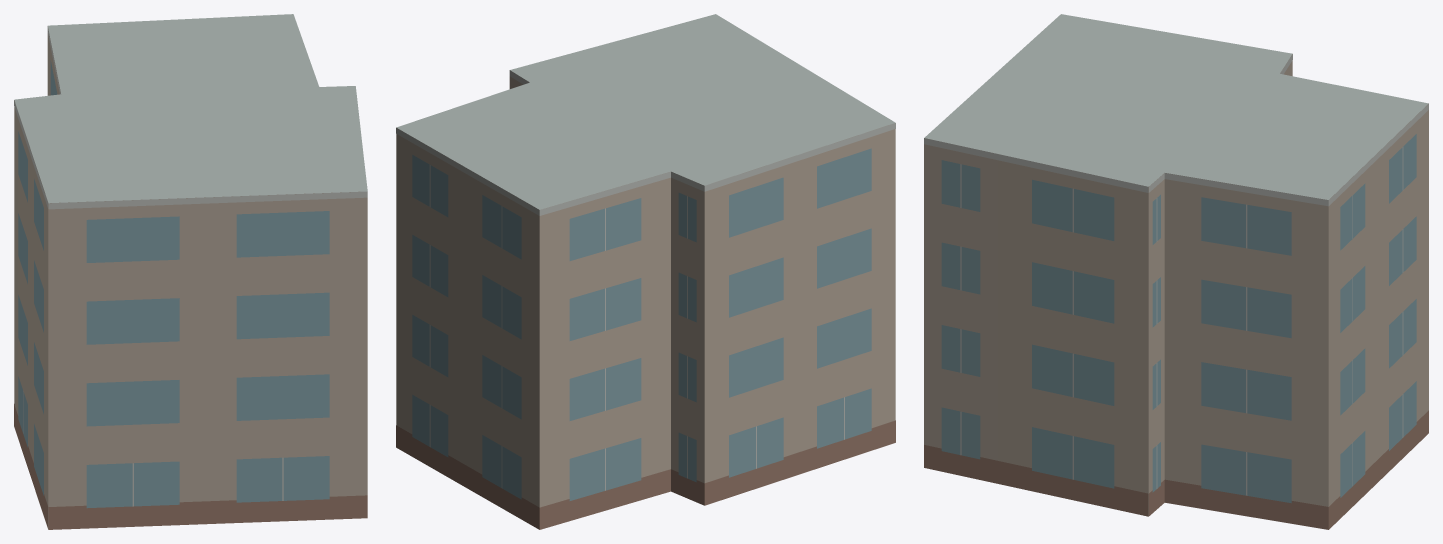
Rendered from survey-upis-32672108.glb.
3 renders of one model, left to right at view 1: azimuth 30°, elevation 25°; view 2: azimuth 150°, elevation 25°; view 3: azimuth 270°, elevation 25°, orthographic. The views are drawn at different scales.
Visible parts, largest first — view 1: survey-upis-32672108.tmp; view 2: survey-upis-32672108.tmp; view 3: survey-upis-32672108.tmp.
Boxes of the visible parts, <box> form: survey-upis-32672108.tmp: <box>14,14,367,529</box>; survey-upis-32672108.tmp: <box>396,14,895,529</box>; survey-upis-32672108.tmp: <box>924,14,1428,529</box>.
Size of the model in its own units: 15.49 by 12.8 by 17.76.
